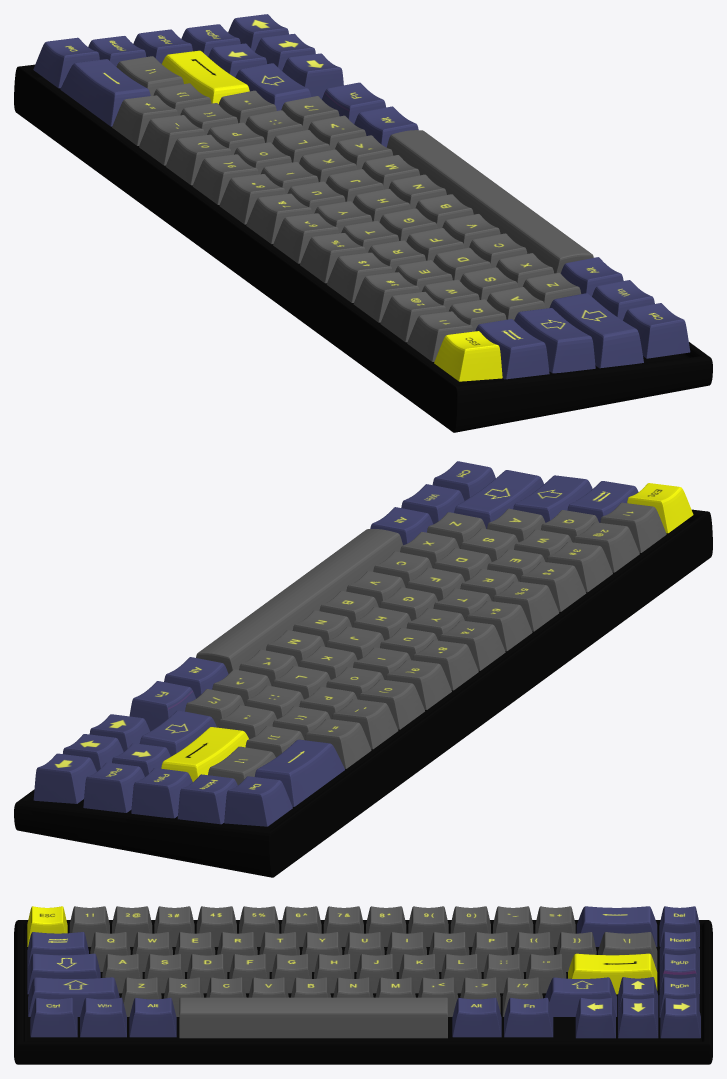
File: 60_Keyboard_2_nightrunner.glb
3 renders of one model, top to bottom at view 1: azimuth 30°, elevation 25°; view 2: azimuth 150°, elevation 25°; view 3: azimuth 270°, elevation 25°, orthographic. The views are drawn at different scales.
Parts seen in each view (by area): view 1: Plane; view 2: Plane; view 3: Plane.
Part boxes in pixels (x1=…): Plane: x1=14, y1=14, x2=712, y2=432; Plane: x1=14, y1=461, x2=712, y2=877; Plane: x1=14, y1=906, x2=712, y2=1064.
Bounding box in the file's own units: 4.25 × 1.38 × 12.64.
2 materials, 1 textured.
